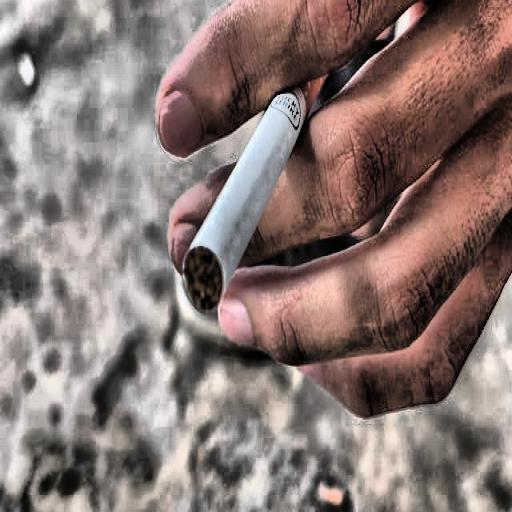Merokok: (181, 87, 306, 309)
